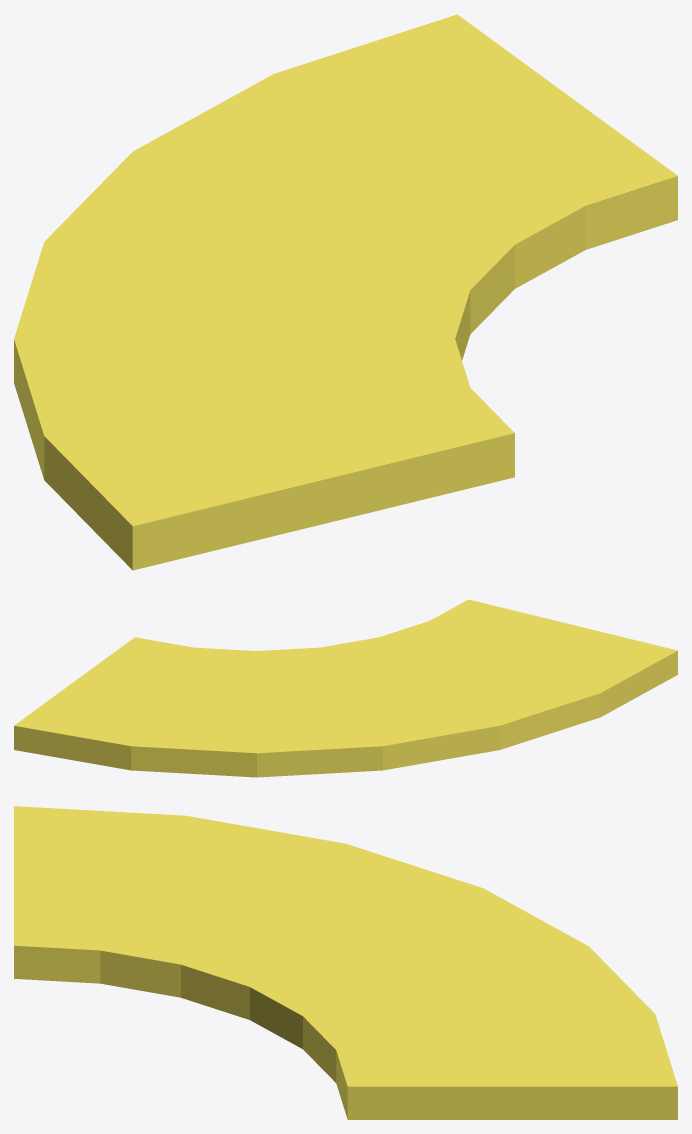
File: road sector circle.fbx
3 renders of one model, top to bottom at view 1: azimuth 30°, elevation 25°; view 2: azimuth 150°, elevation 25°; view 3: azimuth 270°, elevation 25°, orthographic. The views are drawn at different scales.
Visible parts, largest first — view 1: дорогакруговаясектор; view 2: дорогакруговаясектор; view 3: дорогакруговаясектор.
Part boxes in pixels (left/top/right/bottom): дорогакруговаясектор: left=14, top=14, right=677, bottom=570; дорогакруговаясектор: left=14, top=599, right=677, bottom=777; дорогакруговаясектор: left=14, top=806, right=677, bottom=1119.
Size of the model in its own units: 401 by 22.06 by 401.
